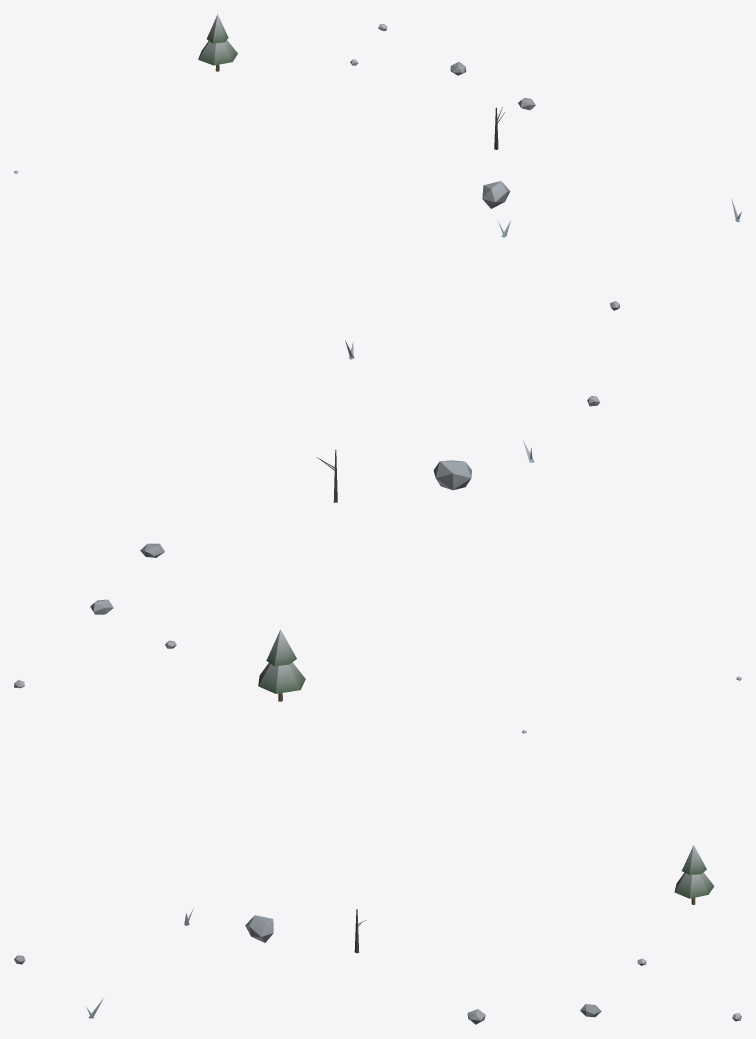
The model's file is frost_land_scatter_c22_12_lod1.glb.
3 renders of one model, top to bottom at view 1: azimuth 30°, elevation 25°; view 2: azimuth 150°, elevation 25°; view 3: azimuth 270°, elevation 25°, orthographic. The views are drawn at different scales.
Visible parts, largest first — view 1: frost_land_scatter_c22_12_lod1; view 2: frost_land_scatter_c22_12_lod1; view 3: frost_land_scatter_c22_12_lod1.
Part boxes in pixels (x1=…): frost_land_scatter_c22_12_lod1: x1=14, y1=14, x2=741, y2=310; frost_land_scatter_c22_12_lod1: x1=14, y1=340, x2=741, y2=701; frost_land_scatter_c22_12_lod1: x1=14, y1=730, x2=741, y2=1024.
Bounding box in the file's own units: 81.52 × 11.64 × 94.92.
